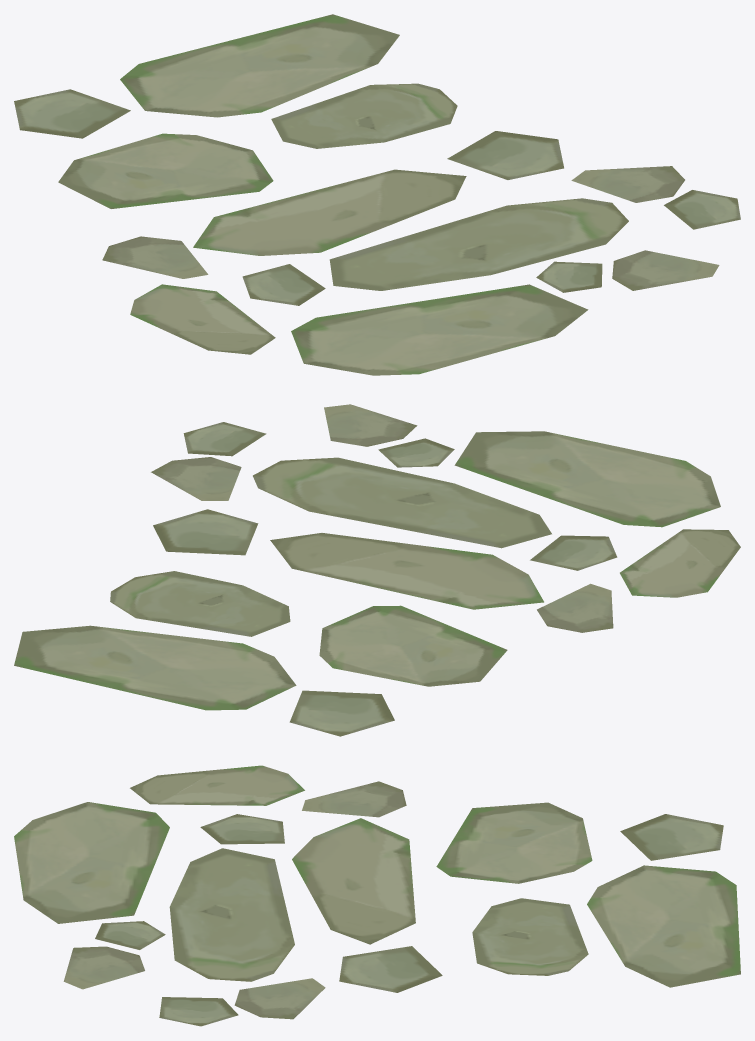
File: road3.FBX
3 views of the same model, one above another, from view 1: azimuth 30°, elevation 25°; view 2: azimuth 150°, elevation 25°; view 3: azimuth 270°, elevation 25° (orthographic). The views are drawn at different scales.
Visible parts, largest first — view 1: thl_dimian_09; view 2: thl_dimian_09; view 3: thl_dimian_09.
Part boxes in pixels (<box>): thl_dimian_09: <box>14,14,740,375</box>; thl_dimian_09: <box>14,404,740,736</box>; thl_dimian_09: <box>14,765,740,1026</box>.
Size of the model in its own units: 265 by 1.91e-14 by 312.
1 material, 1 textured.
